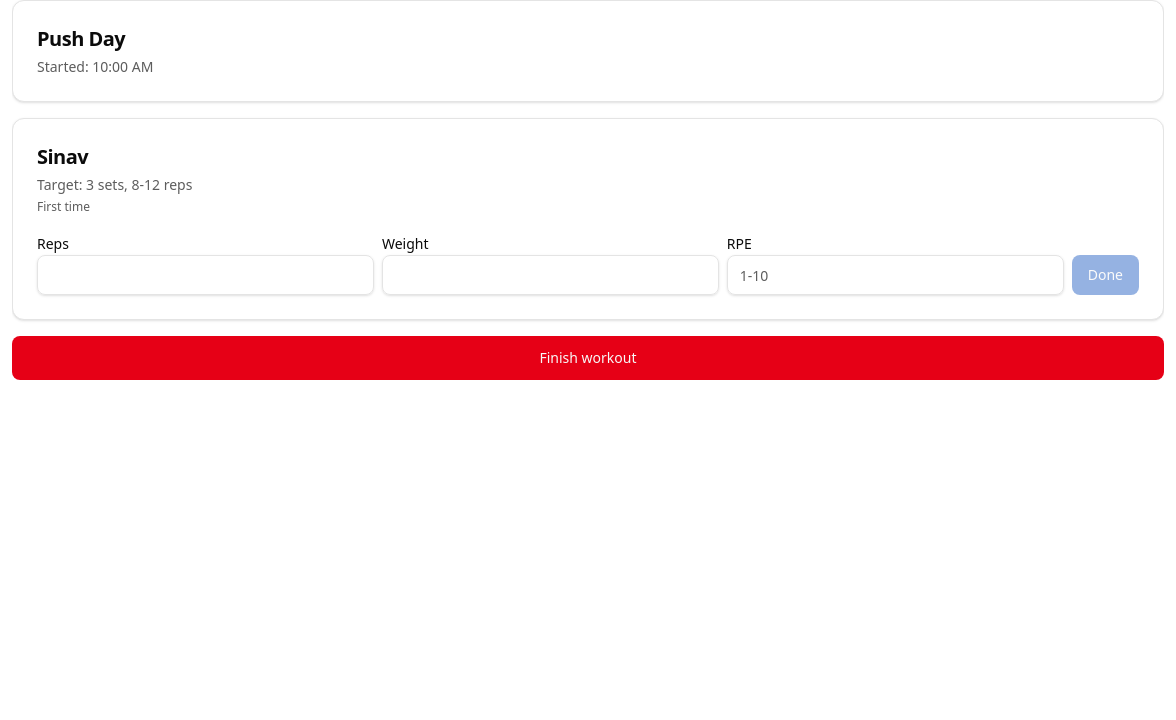
Scenario: SessionClient typed error UX › shows the SET_NUMBER_DUPLICATE toast and refetches the session when addSet returns 409 + code SET_NUMBER_DUPLICATE
The width and height of the screenshot is (1176, 720).
Expected: the button "Sinav" is shown, [37,143,88,171]
Type "10" into the number field labelled "Reps". click: coordinates (205, 275)
box: [37,255,374,295]
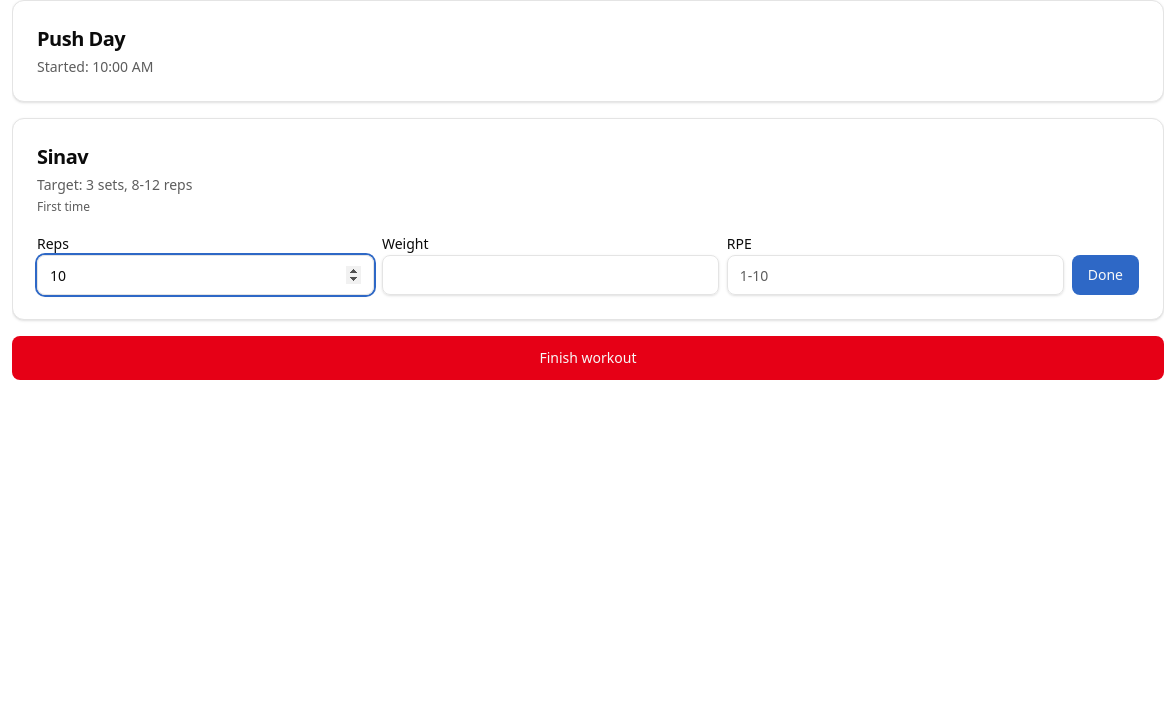
Click the button "Done". click: coordinates (1105, 275)
box: [1072,255,1139,295]
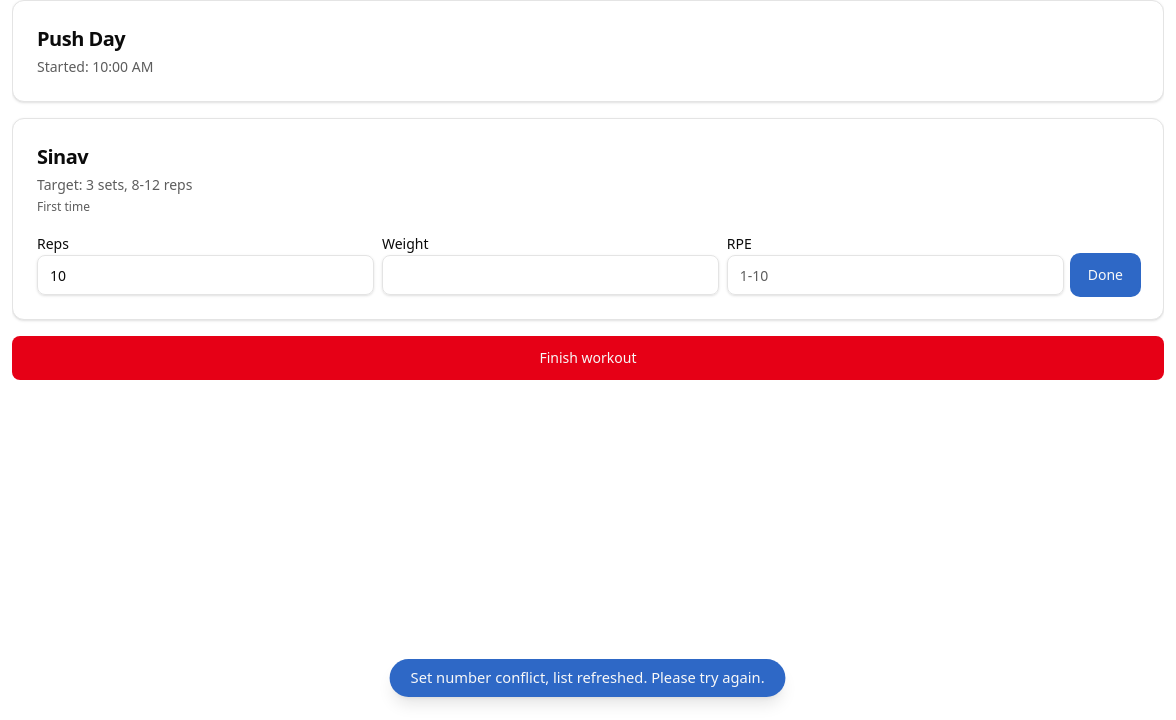
Result: the message with test id "pr-toast" reads "Set number conflict, list refreshed. Please try again." at [411,668,765,688]
